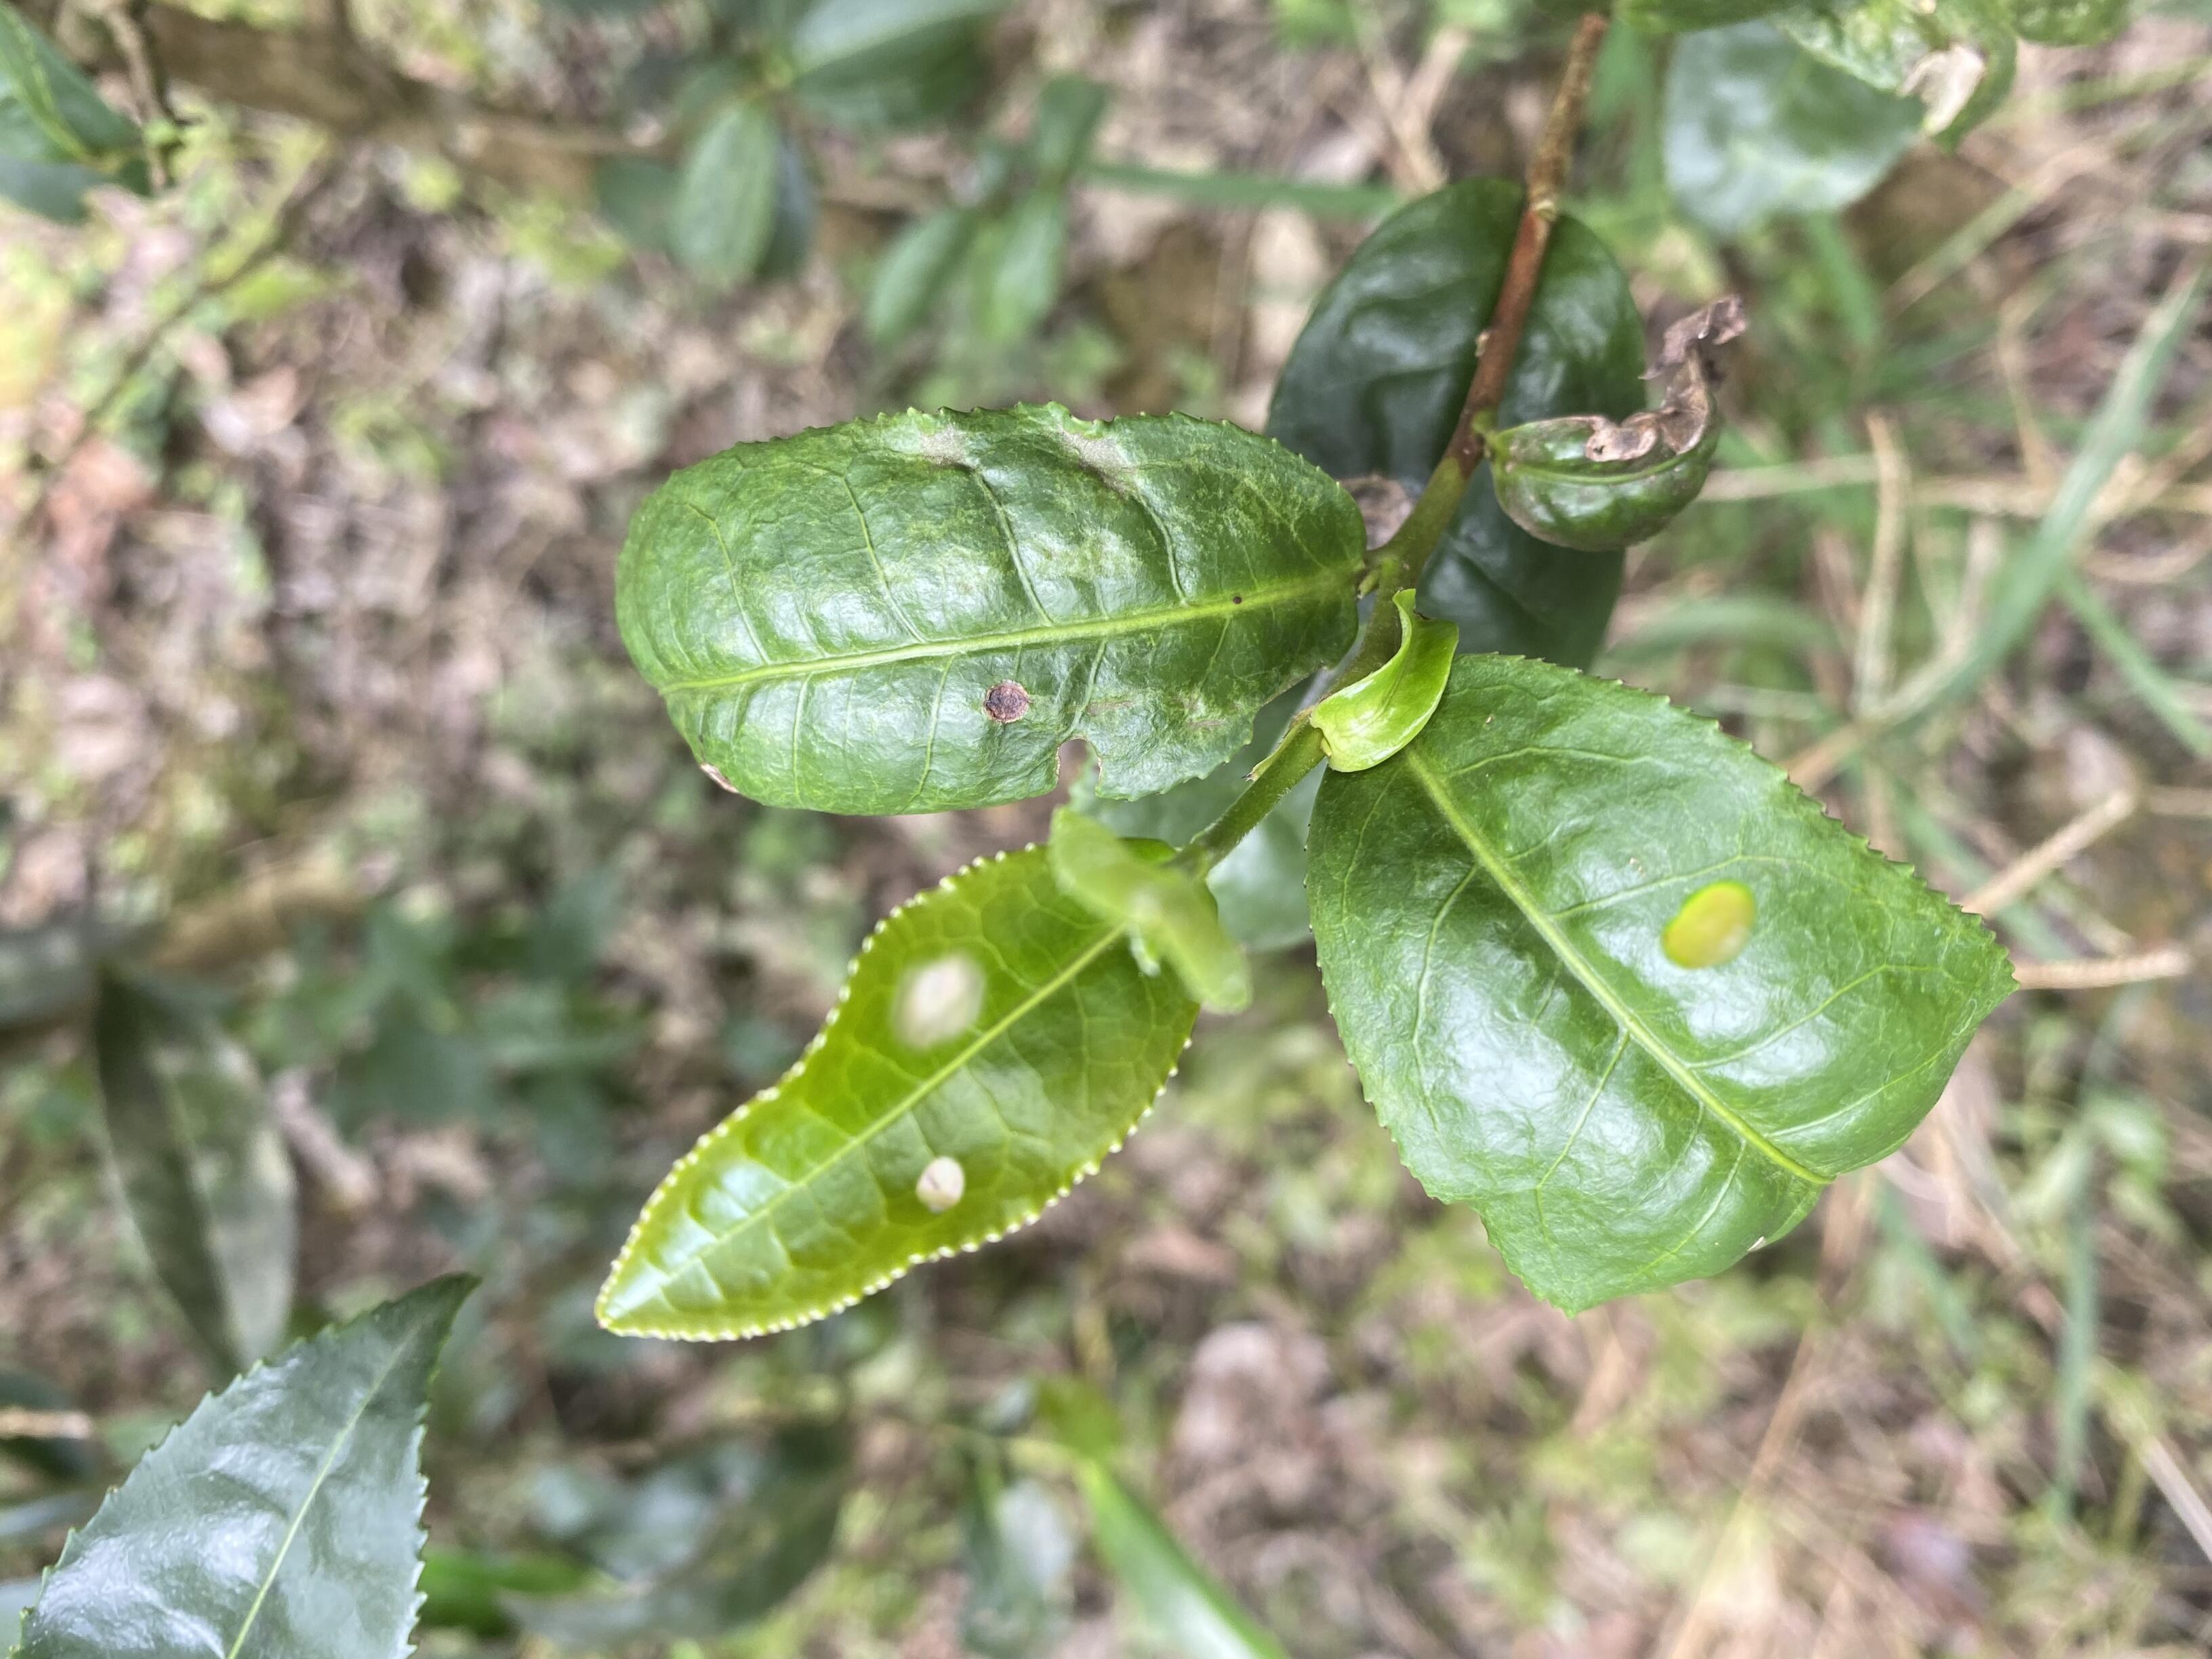chabing_high: (590, 835, 1219, 1344)
chabing_low: (1305, 650, 2026, 1317)
healthy: (7, 1270, 479, 1656)
